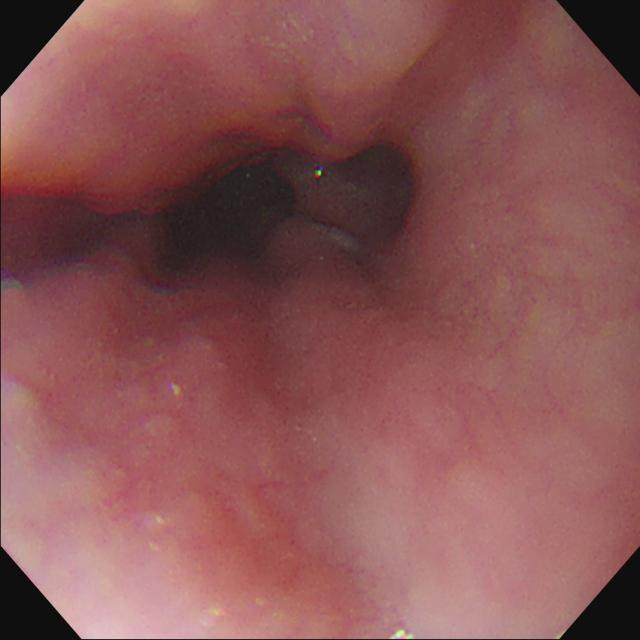E: (167, 167, 297, 267)
